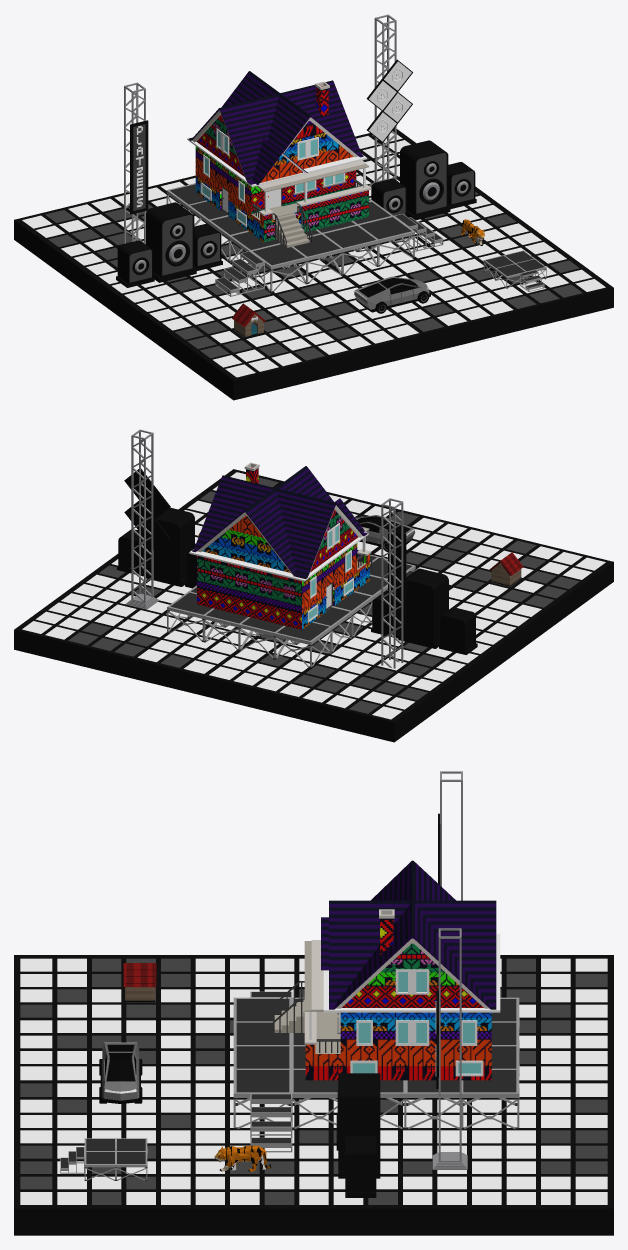
The picture shows the model from 3 angles, top to bottom: view 1: azimuth 30°, elevation 25°; view 2: azimuth 150°, elevation 25°; view 3: azimuth 270°, elevation 25°; orthographic projection. The views are drawn at different scales.
Visible parts, largest first — view 1: Cube.008, Cube.966, VEHICLES_CYBERTRUCK, OBJRANDOM_DOGHOUSE; view 2: Cube.008, Cube.966, VEHICLES_CYBERTRUCK, OBJRANDOM_DOGHOUSE; view 3: Cube.008, Cube.966, VEHICLES_CYBERTRUCK, OBJRANDOM_DOGHOUSE, ANIMAL_TIGRE.
Part boxes in pixels (bbox=[...]): Cube.008: bbox=[14, 14, 613, 400]; Cube.966: bbox=[187, 71, 371, 248]; VEHICLES_CYBERTRUCK: bbox=[354, 276, 430, 313]; OBJRANDOM_DOGHOUSE: bbox=[232, 303, 265, 337]; Cube.008: bbox=[14, 429, 613, 742]; Cube.966: bbox=[189, 462, 372, 629]; VEHICLES_CYBERTRUCK: bbox=[355, 515, 415, 552]; OBJRANDOM_DOGHOUSE: bbox=[489, 552, 523, 586]; Cube.008: bbox=[14, 771, 613, 1235]; Cube.966: bbox=[272, 860, 500, 1080]; VEHICLES_CYBERTRUCK: bbox=[99, 1042, 142, 1103]; OBJRANDOM_DOGHOUSE: bbox=[123, 963, 156, 1001]; ANIMAL_TIGRE: bbox=[214, 1145, 271, 1171].
Size of the model in its own units: 4000 by 1980 by 4000.
44 materials, 5 textured.
